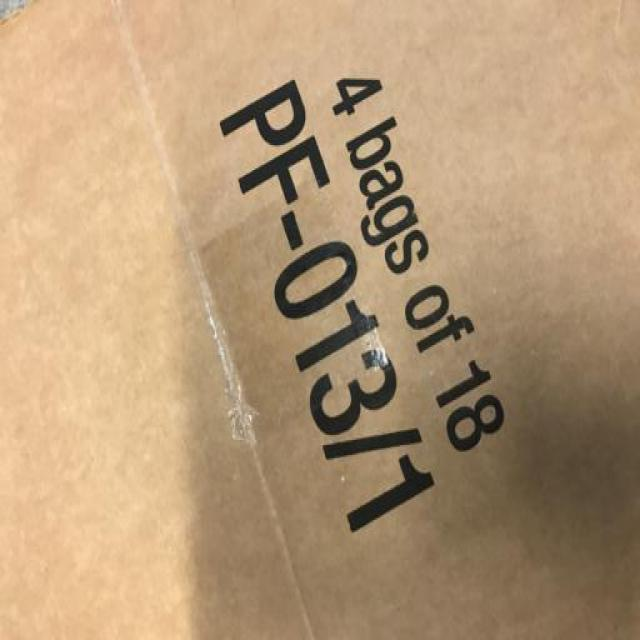cardboard: (6, 1, 640, 640)
